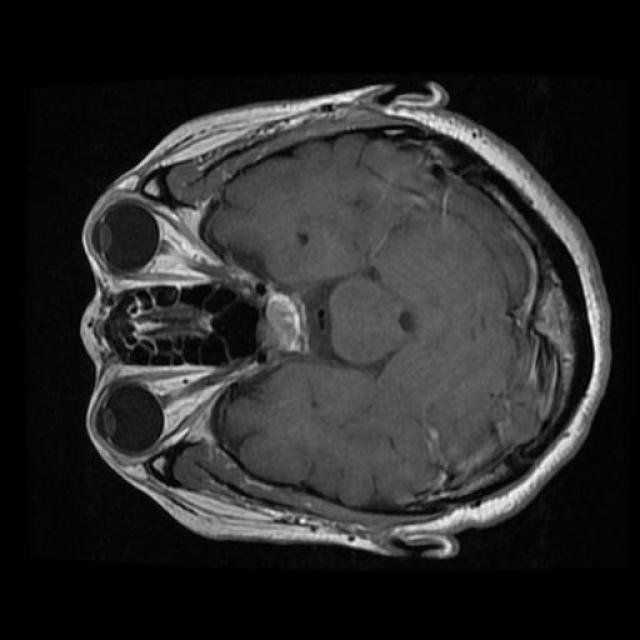Pituitary: (244, 278, 343, 362)
